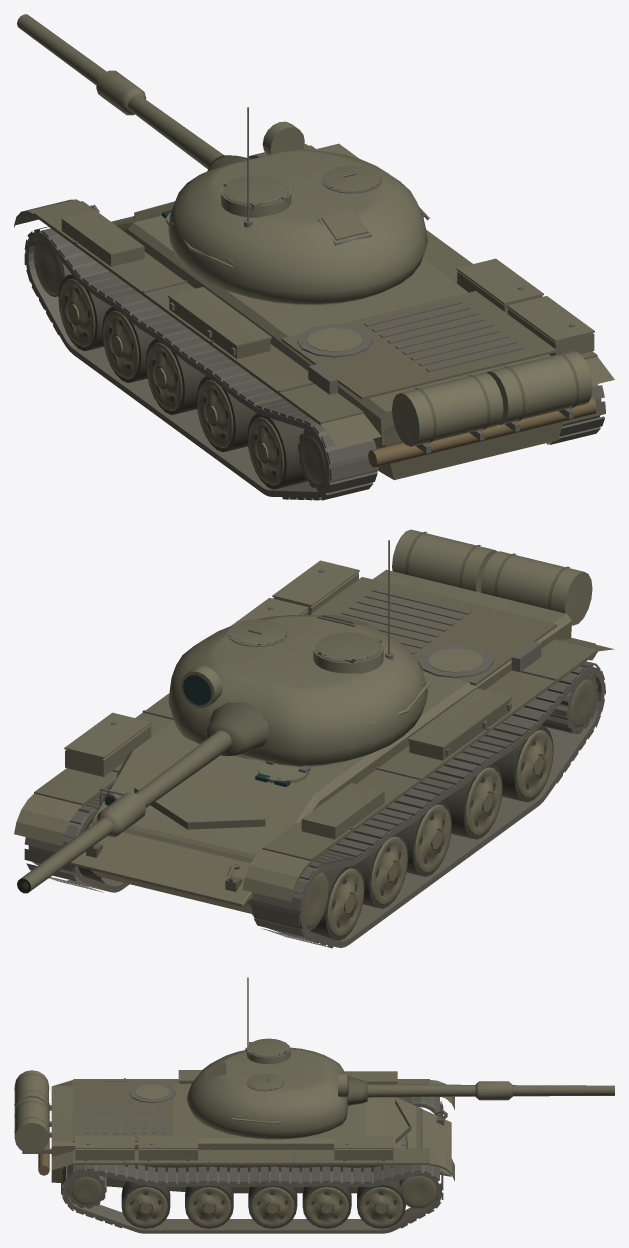
3 views of the same model, one above another, from view 1: azimuth 30°, elevation 25°; view 2: azimuth 150°, elevation 25°; view 3: azimuth 270°, elevation 25° (orthographic). The views are drawn at different scales.
Parts seen in each view (by area): view 1: Hull_T62_Paint, TurretYaw_T62_Paint, LeftTrack_T62_TrackSteel, LeftTrack_T62_Paint, Hull_T62_TrackSteel, LeftTrack_T62_Rubber, BarrelRecoil_T62_Paint, Hull_T62_Timber, GunPitch_T62_Paint, RightTrack_T62_TrackSteel, TurretYaw_T62_TrackSteel; view 2: Hull_T62_Paint, TurretYaw_T62_Paint, LeftTrack_T62_TrackSteel, LeftTrack_T62_Paint, LeftTrack_T62_Rubber, BarrelRecoil_T62_Paint, Hull_T62_TrackSteel, GunPitch_T62_Paint, RightTrack_T62_TrackSteel, TurretYaw_T62_TrackSteel, GunPitch_T62_Optics; view 3: Hull_T62_Paint, TurretYaw_T62_Paint, RightTrack_T62_TrackSteel, RightTrack_T62_Paint, RightTrack_T62_Rubber, BarrelRecoil_T62_Paint, Hull_T62_TrackSteel, GunPitch_T62_Paint, LeftTrack_T62_TrackSteel, TurretYaw_T62_TrackSteel.
Part boxes in pixels (<box>): Hull_T62_Paint: <box>14,143,614,480</box>; TurretYaw_T62_Paint: <box>168,149,429,305</box>; LeftTrack_T62_TrackSteel: <box>24,226,378,500</box>; LeftTrack_T62_Paint: <box>34,239,325,485</box>; Hull_T62_TrackSteel: <box>75,204,574,453</box>; LeftTrack_T62_Rubber: <box>58,274,308,489</box>; BarrelRecoil_T62_Paint: <box>17,14,223,168</box>; Hull_T62_Timber: <box>368,397,596,467</box>; GunPitch_T62_Paint: <box>207,121,304,170</box>; RightTrack_T62_TrackSteel: <box>546,384,605,444</box>; TurretYaw_T62_TrackSteel: <box>223,107,424,264</box>; Hull_T62_Paint: <box>14,529,614,913</box>; TurretYaw_T62_Paint: <box>168,615,430,766</box>; LeftTrack_T62_TrackSteel: <box>252,661,605,948</box>; LeftTrack_T62_Paint: <box>304,679,594,936</box>; LeftTrack_T62_Rubber: <box>310,726,553,940</box>; BarrelRecoil_T62_Paint: <box>17,730,232,893</box>; Hull_T62_TrackSteel: <box>90,569,556,882</box>; GunPitch_T62_Paint: <box>180,666,268,755</box>; RightTrack_T62_TrackSteel: <box>24,787,129,892</box>; TurretYaw_T62_TrackSteel: <box>227,540,424,759</box>; GunPitch_T62_Optics: <box>183,674,211,705</box>; Hull_T62_Paint: <box>14,1070,454,1193</box>; TurretYaw_T62_Paint: <box>186,1038,347,1139</box>; RightTrack_T62_TrackSteel: <box>61,1164,443,1233</box>; RightTrack_T62_Paint: <box>71,1176,436,1226</box>; RightTrack_T62_Rubber: <box>121,1180,405,1228</box>; BarrelRecoil_T62_Paint: <box>367,1081,614,1100</box>; Hull_T62_TrackSteel: <box>22,1078,447,1162</box>; GunPitch_T62_Paint: <box>338,1072,367,1105</box>; LeftTrack_T62_TrackSteel: <box>397,1097,443,1116</box>; TurretYaw_T62_TrackSteel: <box>204,977,289,1139</box>.
Bounding box in the file's own units: 3.31 × 3.53 × 9.96.
